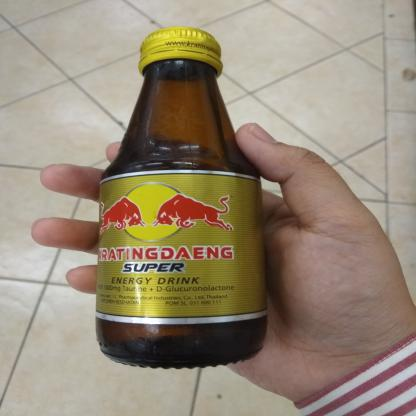bottle: (92, 21, 275, 371)
